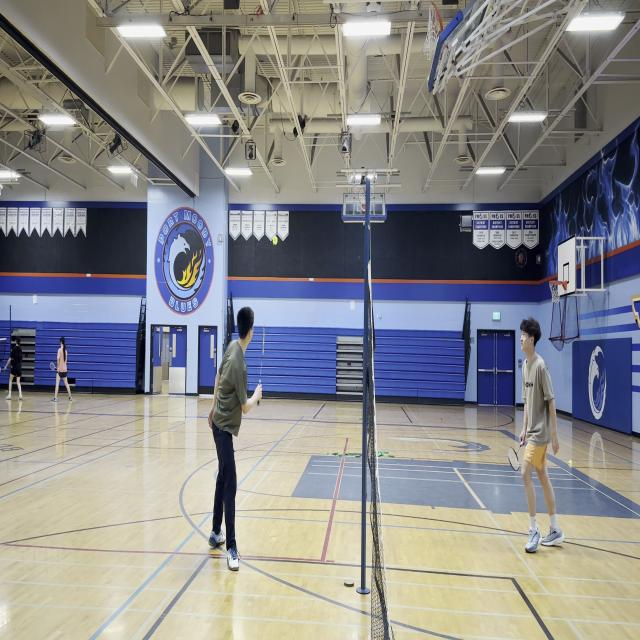shuttlecock: (272, 234, 278, 247)
